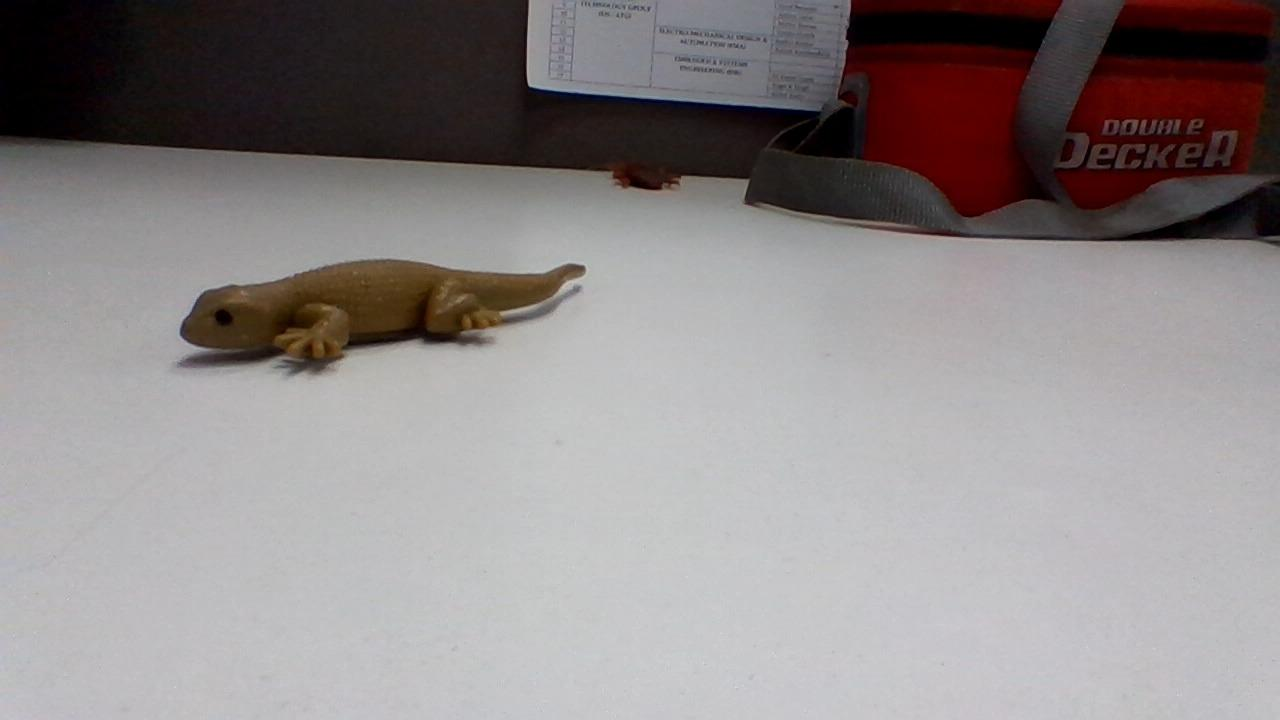lizard: (152, 250, 588, 366)
